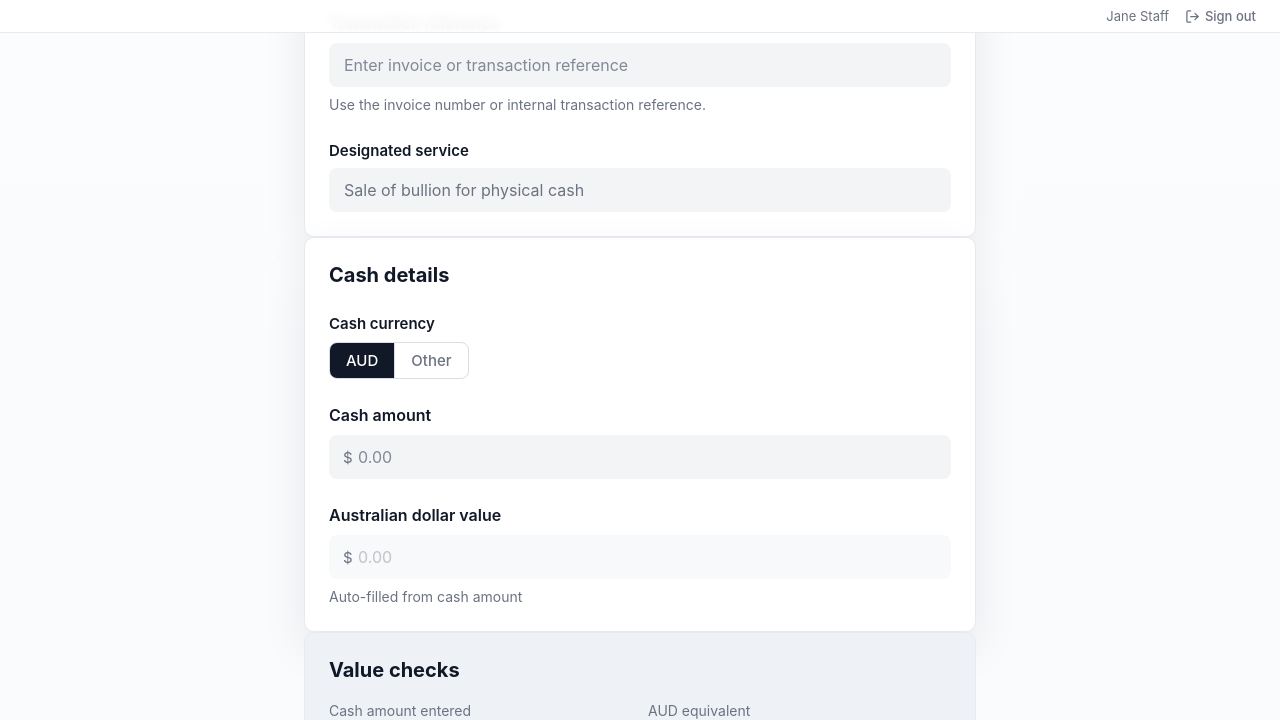
Scenario: TransactionDetailsPage › auto-calculates AUD value as foreignAmount × fxRate and updates on change
(page scrolled)
Click the button "Other".
click(431, 360)  # box [394,343,468,378]
(page scrolled)
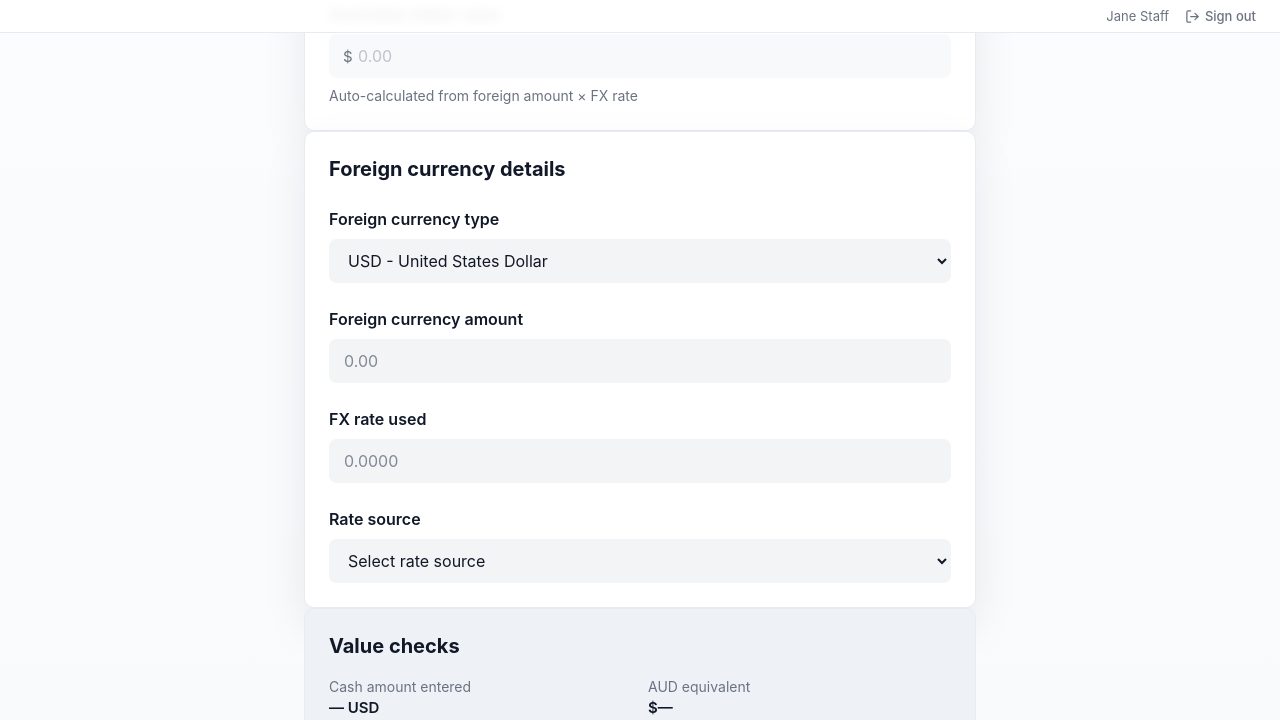
Type "1000" into the number field labelled "Foreign currency amount".
click(640, 361); type("1000")  # box [329,339,951,383]
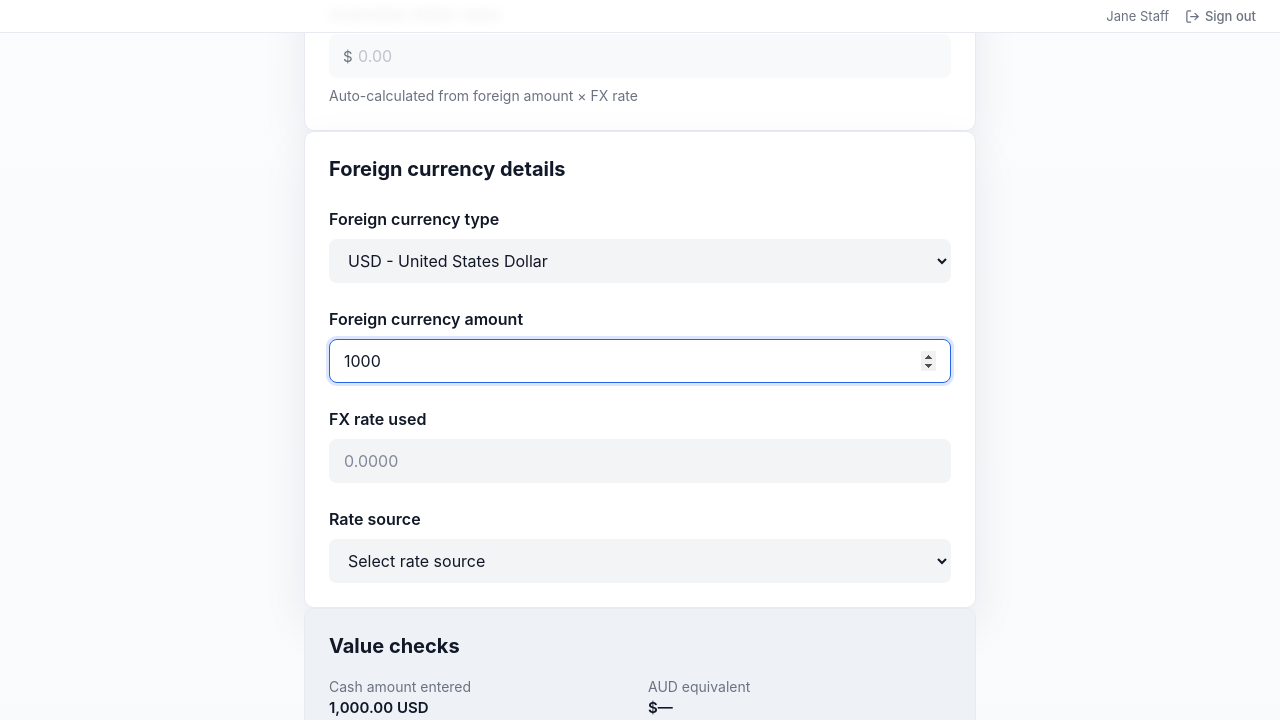
Type "1.5" into the number field labelled "FX rate used".
click(640, 461); type("1.5")  # box [329,439,951,483]
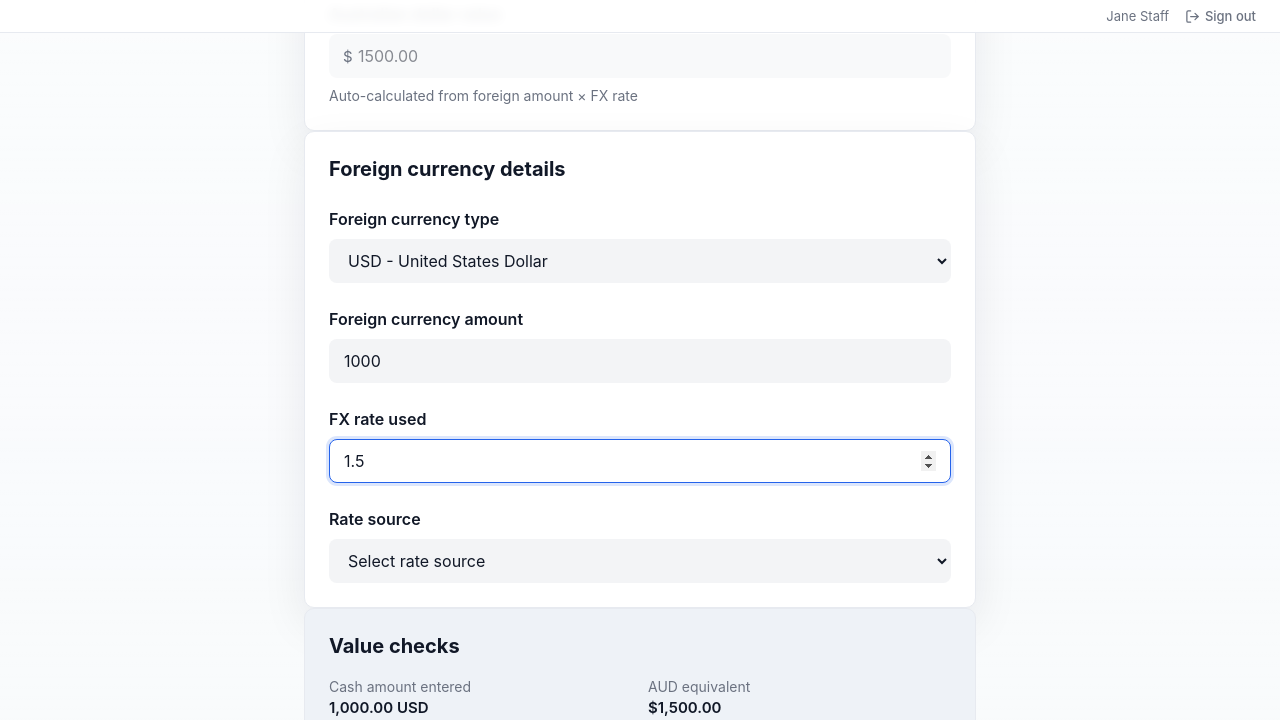
Expected: the number field labelled "Australian dollar value" holds "1500", [329,34,951,78]
